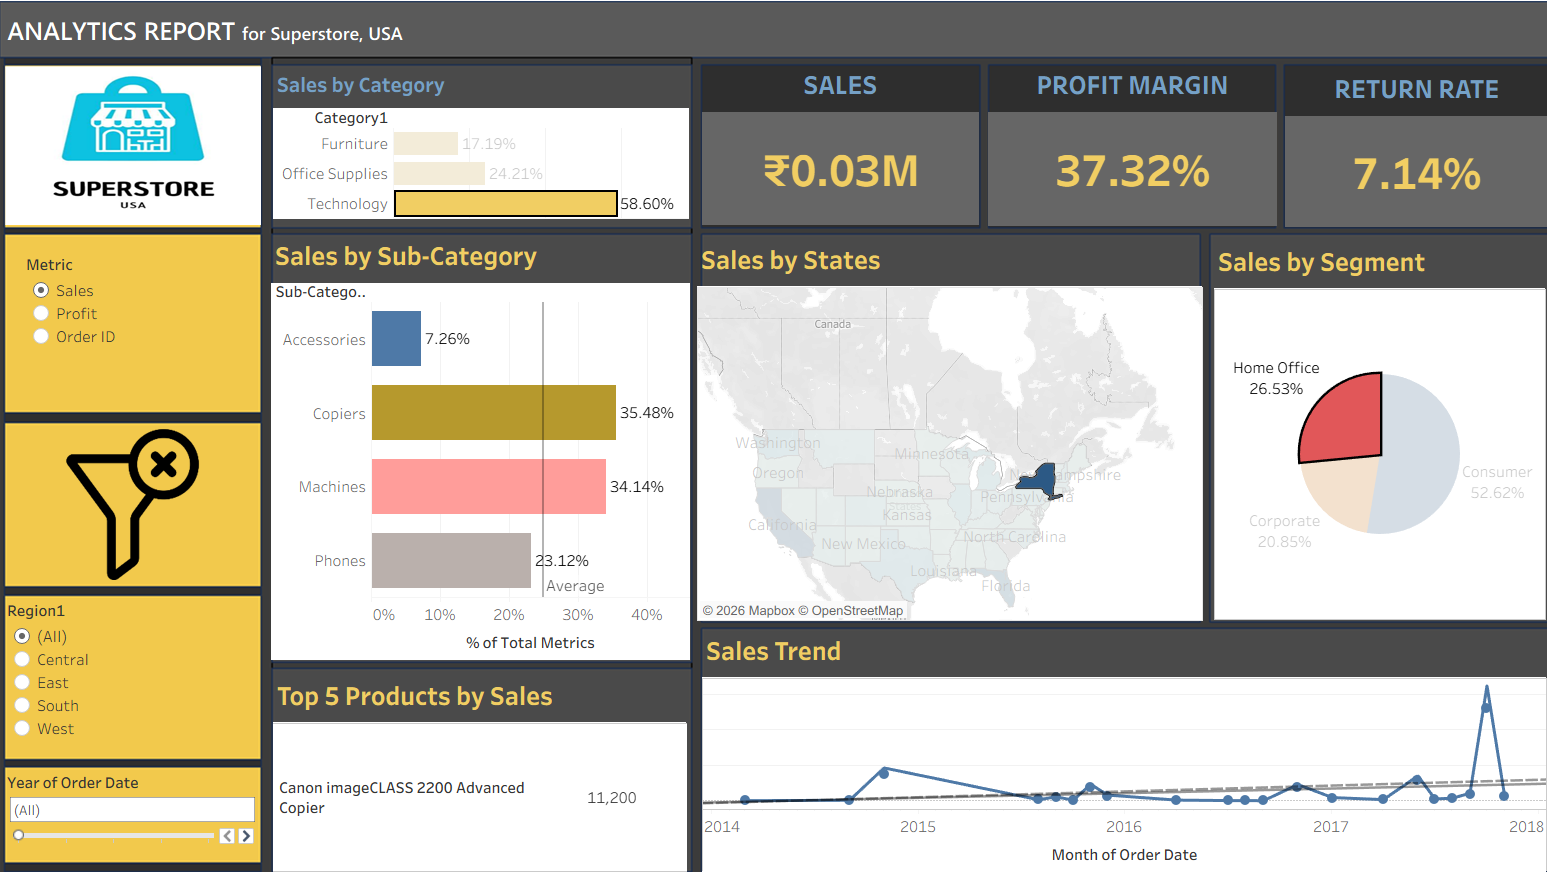

The dashboard page shown, as its layout file describes it:
{"tool":"tableau","page":{"name":"Dashboard 2","canvas":[1600,900],"ordinal":1},"visuals":[{"type":"image","param":"Image/Slide1.PNG","box":[8,8,1584,884]},{"type":"text","box":[17,16,511,51]},{"type":"worksheet","title":"Assignment 7 (4)","mark":"Automatic","box":[715,74,277,162]},{"type":"worksheet","title":"Assignment 7 (5)","mark":"Automatic","box":[1001,74,289,163]},{"type":"image","param":"Image/Logo - Copy.png","box":[18,77,256,162]},{"type":"worksheet","title":"Assignment 7 (2)","mark":"Automatic","rows":["Category"],"cols":["Calculation_1207853705064460"],"box":[286,77,416,162]},{"type":"worksheet","title":"Assignment 7 (6)","mark":"Automatic","box":[1298,78,264,160]},{"type":"worksheet","title":"Assignment 7","mark":"Automatic","rows":["Sub-Category"],"cols":["Calculation_1207853705064460"],"box":[284,245,419,426]},{"type":"worksheet","title":"Assignment 7 (8)","mark":"Multipolygon","box":[710,249,506,383]},{"type":"worksheet","title":"Assignment 7 (7)","mark":"Pie","rows":["Calculation_1894766404337675","Calculation_1894766404354061"],"box":[1227,251,333,380]},{"type":"parameter","param":"[Parameters].[Parameter 1894766419525646]","box":[39,265,226,152]},{"type":"dashboard-object","box":[20,440,250,151]},{"type":"filter","title":"Assignment 7 (9)","param":"[federated.0edlraj1anpspn1djd8ef1rr8pt8].[none:Region:nk]","box":[16,607,259,172]},{"type":"worksheet","title":"Assignment 7 (9)","mark":"Line","rows":["Calculation_1207853705064460","Calculation_1207853705064460"],"cols":["Order Date"],"box":[715,640,846,244]},{"type":"worksheet","title":"Assignment 7 (3)","mark":"Automatic","rows":["Product Name"],"box":[286,685,419,199]},{"type":"filter","title":"Assignment 7 (9)","param":"[federated.0edlraj1anpspn1djd8ef1rr8pt8].[yr:Order Date:ok]","box":[16,779,259,89]}]}

Visuals, with their boxes in screenshot pixels (x1, y1, x2, y2), scaled from the page's 1600x900 canvas onto the 1547x872 screenshot:
image: 8:8:1539:864
text: 16:16:511:65
"Assignment 7 (4)" worksheet: 691:72:959:229
"Assignment 7 (5)" worksheet: 968:72:1247:230
image: 17:75:265:232
"Assignment 7 (2)" worksheet: 277:75:679:232
"Assignment 7 (6)" worksheet: 1255:76:1510:231
"Assignment 7" worksheet: 275:237:680:650
"Assignment 7 (8)" worksheet (Multipolygon marks): 686:241:1176:612
"Assignment 7 (7)" worksheet (Pie marks): 1186:243:1508:611
parameter: 38:257:256:404
dashboard-object: 19:426:261:573
"Assignment 7 (9)" filter: 15:588:266:755
"Assignment 7 (9)" worksheet (Line marks): 691:620:1509:856
"Assignment 7 (3)" worksheet: 277:664:682:856
"Assignment 7 (9)" filter: 15:755:266:841
